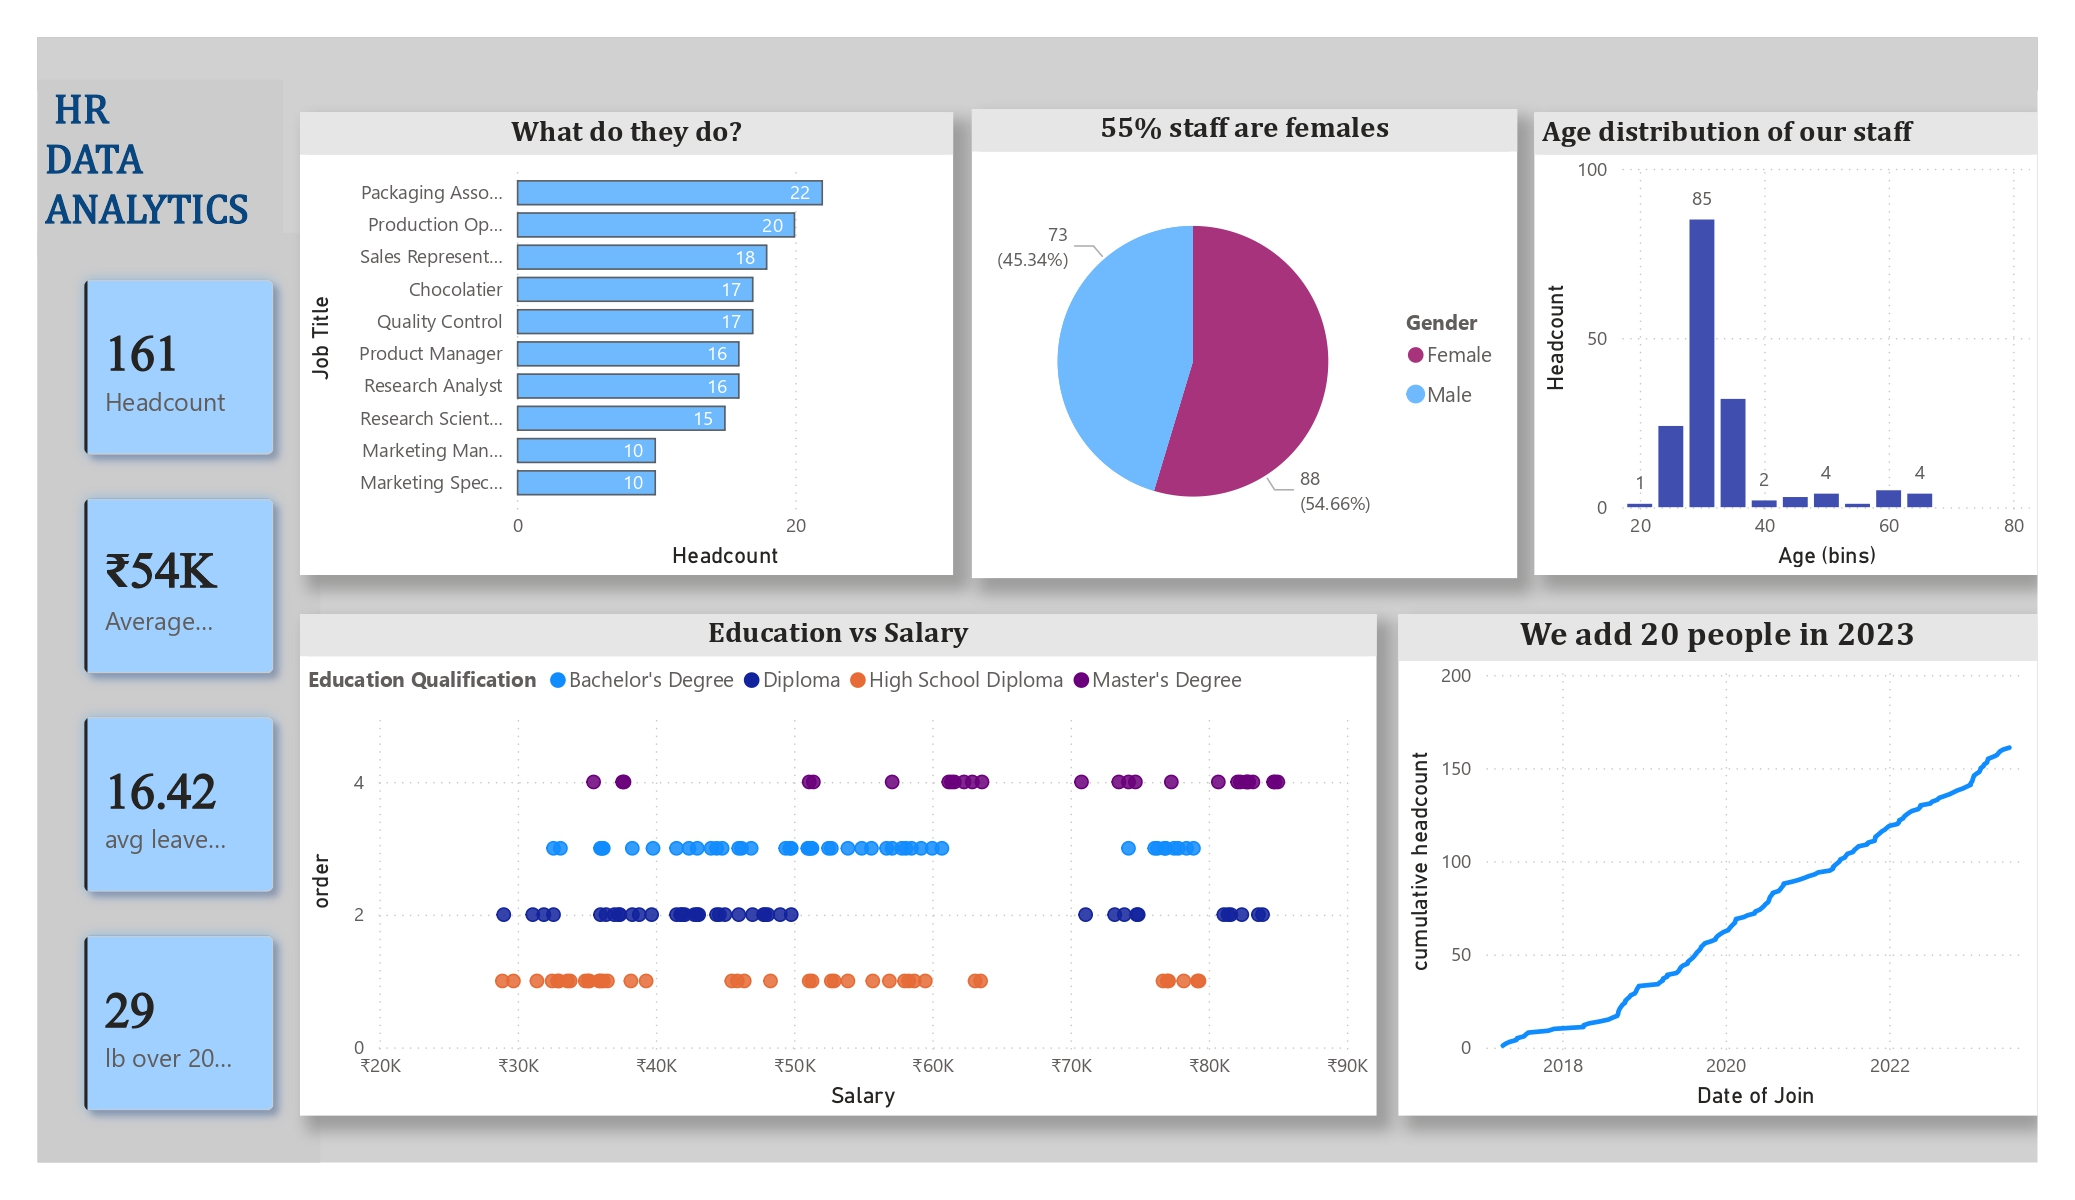

The dashboard page shown, as its layout file describes it:
{"tool":"powerbi","page":{"name":"Workforce overview","canvas":[1280,720],"ordinal":0},"visuals":[{"type":"cardVisual","fields":{"Data":["data.Headcount","data.Average Salary","Qualification hierarchy.avg leave balance","Qualification hierarchy.lb over 20 days"]},"box":[0,125.5,181,594.8],"z":0},{"type":"clusteredBarChart","title":"What do they do?","fields":{"Category":["data.Job Title"],"Y":["data.Headcount"]},"box":[167.7,48.3,418.6,295.6],"z":1000},{"type":"pieChart","title":"55% staff are females","fields":{"Y":["data.Headcount"],"Category":["data.Gender"]},"box":[598.4,45.8,348.7,300.4],"z":2000},{"type":"columnChart","title":"Age distribution of our staff","fields":{"Category":["data.Age (bins)"],"Y":["data.Headcount"]},"box":[957.9,48.3,322.1,295.6],"z":3000},{"type":"scatterChart","title":"Education vs Salary","fields":{"X":["data.Salary"],"Y":["Qualification hierarchy.order"],"Series":["data.Education Qualification"]},"box":[167.7,369.2,688.9,320.9],"z":4000},{"type":"lineChart","title":"We add 20 people in 2023","fields":{"Category":["data.Date of Join"],"Y":["data.cumulative headcount"]},"box":[871.1,369.2,409,320.9],"z":5000},{"type":"textbox","box":[0,26.2,158.8,117.5],"z":6000}]}

Visuals, with their boxes on the page's 1280x720 design canvas (x1, y1, x2, y2). These are canvas units, not pixel positions in the 2075x1200 screenshot, which may show the page scaled, cropped or inside an application window:
cardVisual - data.Headcount x data.Average Salary: (0,126,181,720)
"What do they do?" clusteredBarChart: (168,48,586,344)
"55% staff are females" pieChart: (598,46,947,346)
"Age distribution of our staff" columnChart: (958,48,1280,344)
"Education vs Salary" scatterChart: (168,369,857,690)
"We add 20 people in 2023" lineChart: (871,369,1280,690)
textbox: (0,26,159,144)
